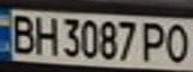0: (78, 16, 100, 60)
3: (57, 15, 81, 57)
7: (115, 18, 142, 62)
8: (96, 17, 121, 61)
B: (6, 11, 39, 55)
H: (30, 14, 60, 56)
O: (160, 20, 193, 64)
P: (139, 19, 172, 63)
